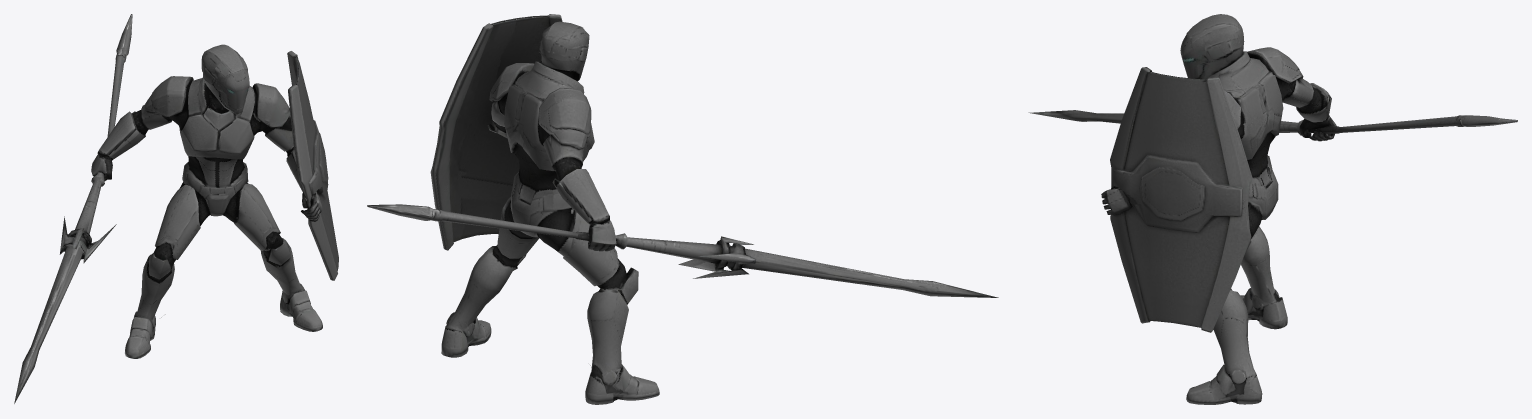
The model's file is piquier_tripo.glb.
3 views of the same model, side by side, from view 1: azimuth 30°, elevation 25°; view 2: azimuth 150°, elevation 25°; view 3: azimuth 270°, elevation 25° (orthographic). The views are drawn at different scales.
Visible parts, largest first — view 1: tripo_node_78abc00c-e4cb-4583-badd-f0b59c8fb62e; view 2: tripo_node_78abc00c-e4cb-4583-badd-f0b59c8fb62e; view 3: tripo_node_78abc00c-e4cb-4583-badd-f0b59c8fb62e.
Boxes of the visible parts, x1,y1,x2,y2 form: tripo_node_78abc00c-e4cb-4583-badd-f0b59c8fb62e: [14, 14, 338, 403]; tripo_node_78abc00c-e4cb-4583-badd-f0b59c8fb62e: [367, 14, 998, 404]; tripo_node_78abc00c-e4cb-4583-badd-f0b59c8fb62e: [1028, 14, 1517, 404].
Bounding box in the file's own units: 0.9995 × 0.7017 × 0.9263.
Materials: 1 (1 with a texture image).
